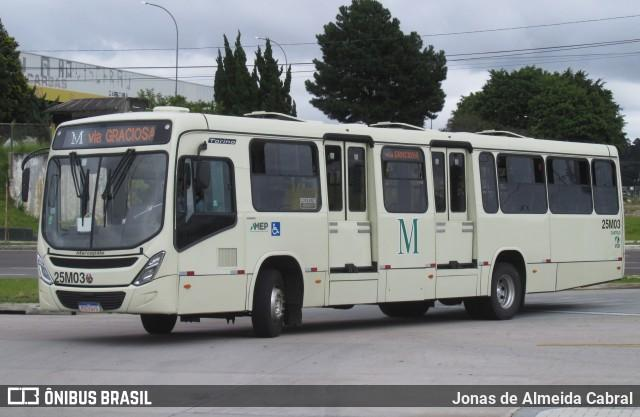GRACIOSA: (101, 124, 159, 146)
